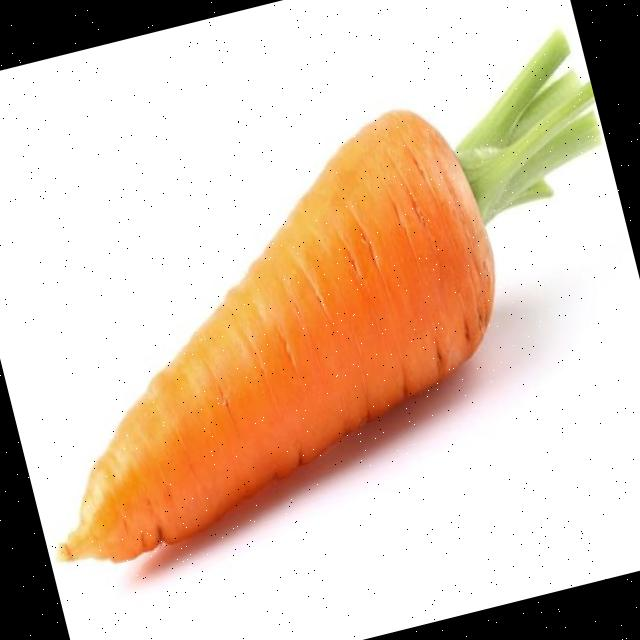carrot: (59, 111, 493, 561)
